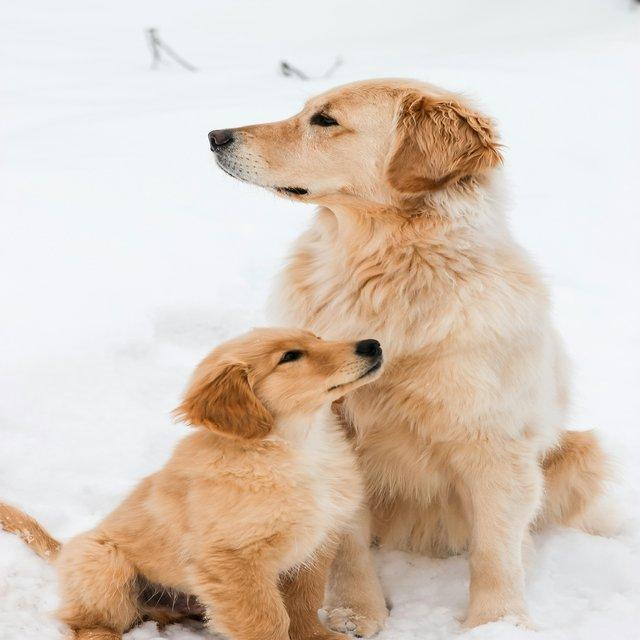retriever: (206, 75, 620, 634), (0, 324, 386, 639)
